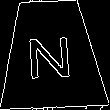N_N: (26, 28, 77, 81)
